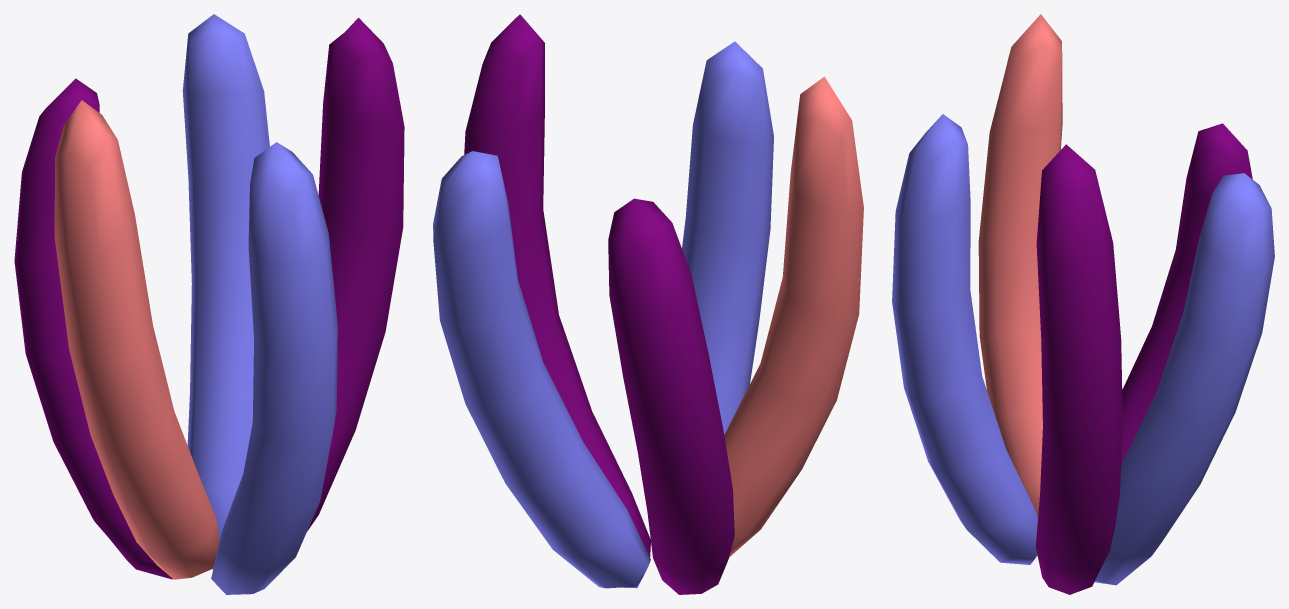
The model's file is Grass_Long02.fbx.
The picture shows the model from 3 angles, left to right: view 1: azimuth 30°, elevation 25°; view 2: azimuth 150°, elevation 25°; view 3: azimuth 270°, elevation 25°; orthographic projection. The views are drawn at different scales.
Parts seen in each view (by area): view 1: Low_Grass_Long02; view 2: Low_Grass_Long02; view 3: Low_Grass_Long02.
Boxes of the visible parts, box(x1,y1,x2,y2) form: Low_Grass_Long02: box(14, 14, 404, 594); Low_Grass_Long02: box(433, 14, 863, 594); Low_Grass_Long02: box(892, 14, 1274, 594).
Size of the model in its own units: 523 by 737 by 515.
